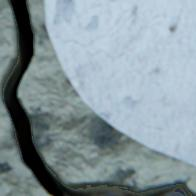brick: (45, 0, 195, 164)
crack: (0, 0, 195, 195)
